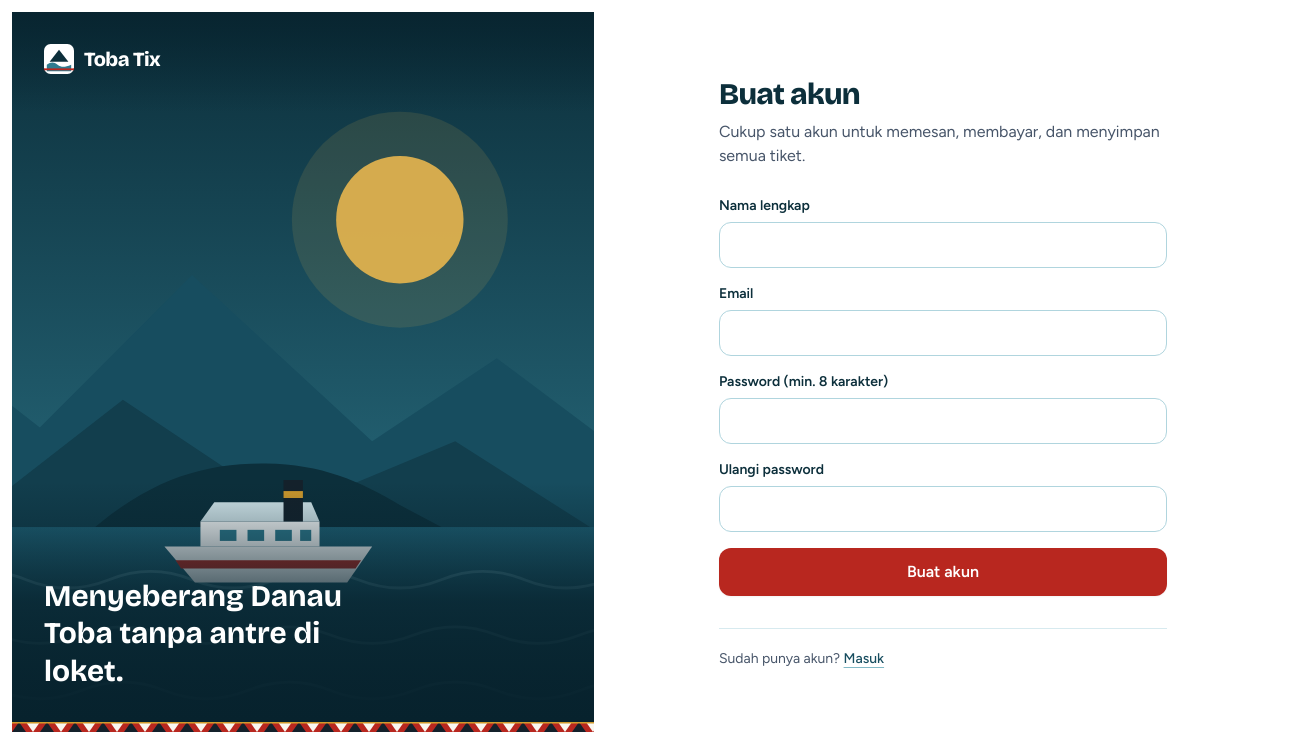
Test case: RegisterPage › registrasi gagal menampilkan pesan server dan error field
Type "Budi Santoso" into the field with id "name" at (943, 244), box x1=719 y1=222 x2=1167 y2=268
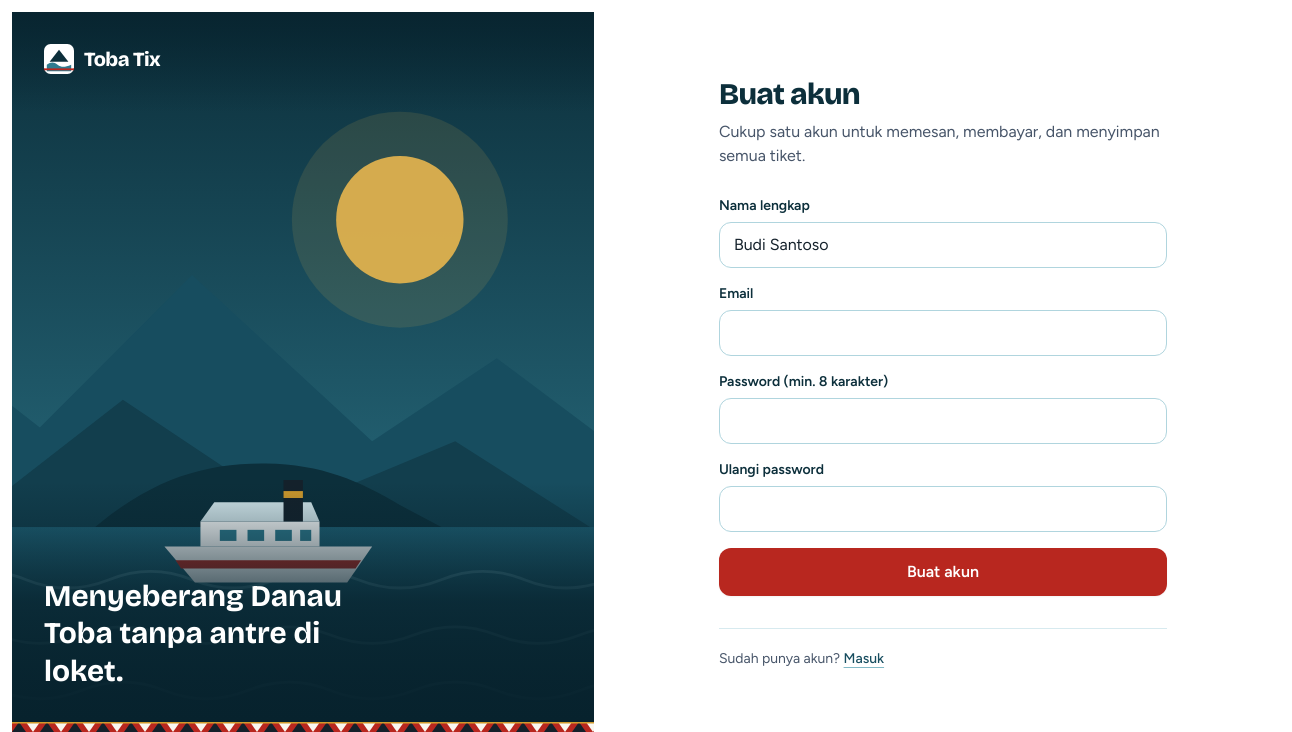
Type "budi@test.com" into the field with id "email" at (943, 332), box x1=719 y1=310 x2=1167 y2=356
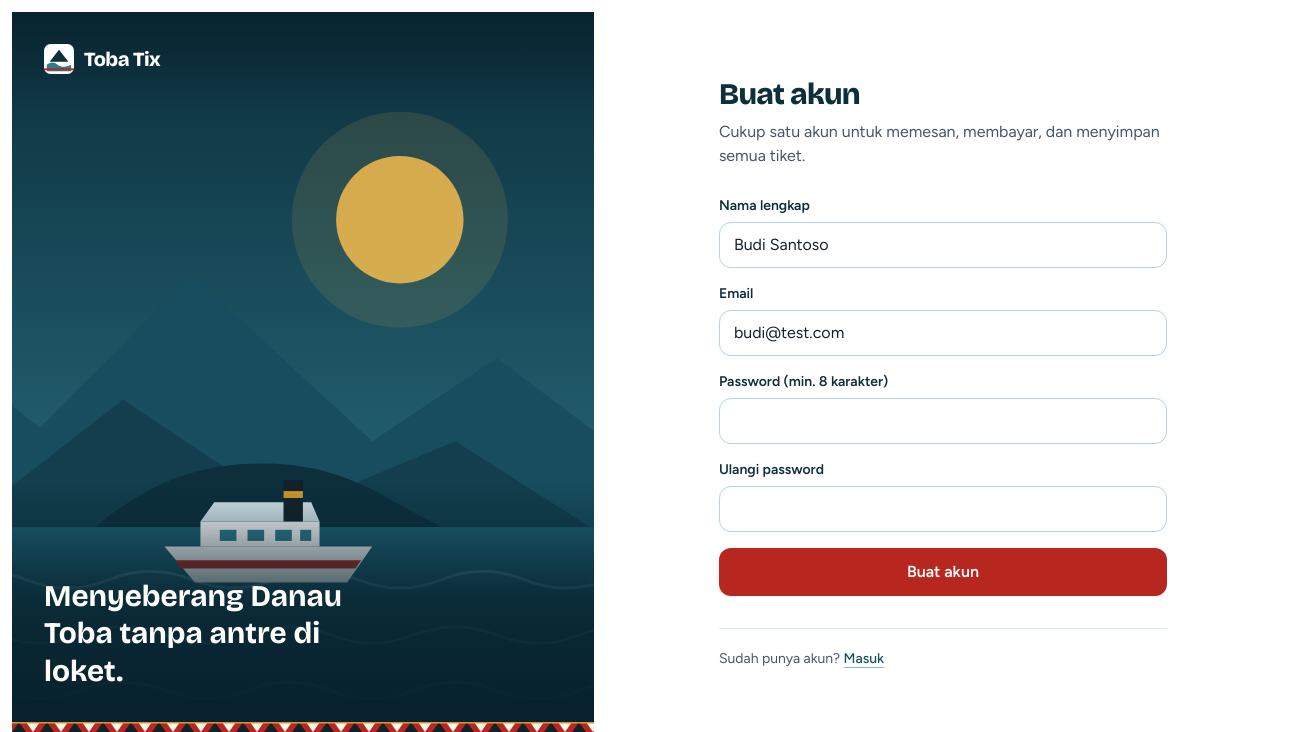
Type "password123" into the password field labelled "Password (min. 8 karakter)" at (943, 420), box x1=719 y1=398 x2=1167 y2=444
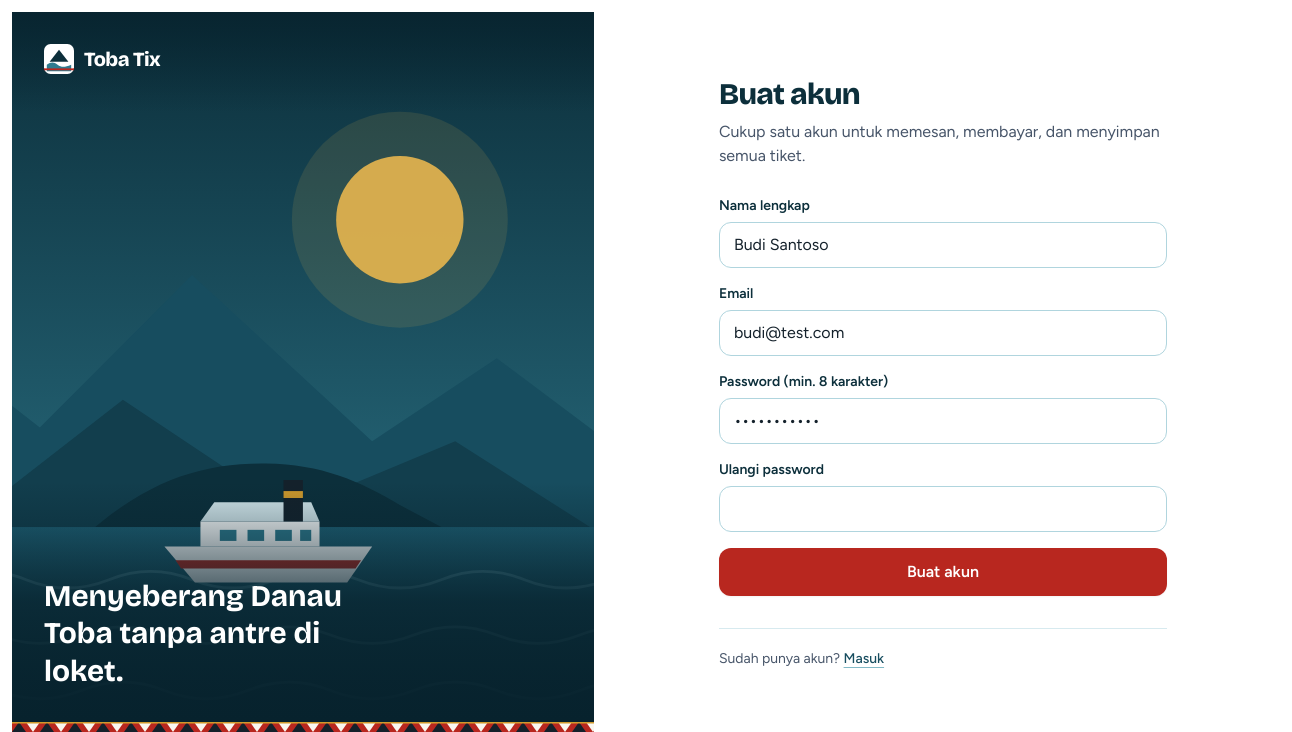
Type "password123" into the password field with id "confirm" at (943, 508), box x1=719 y1=486 x2=1167 y2=532
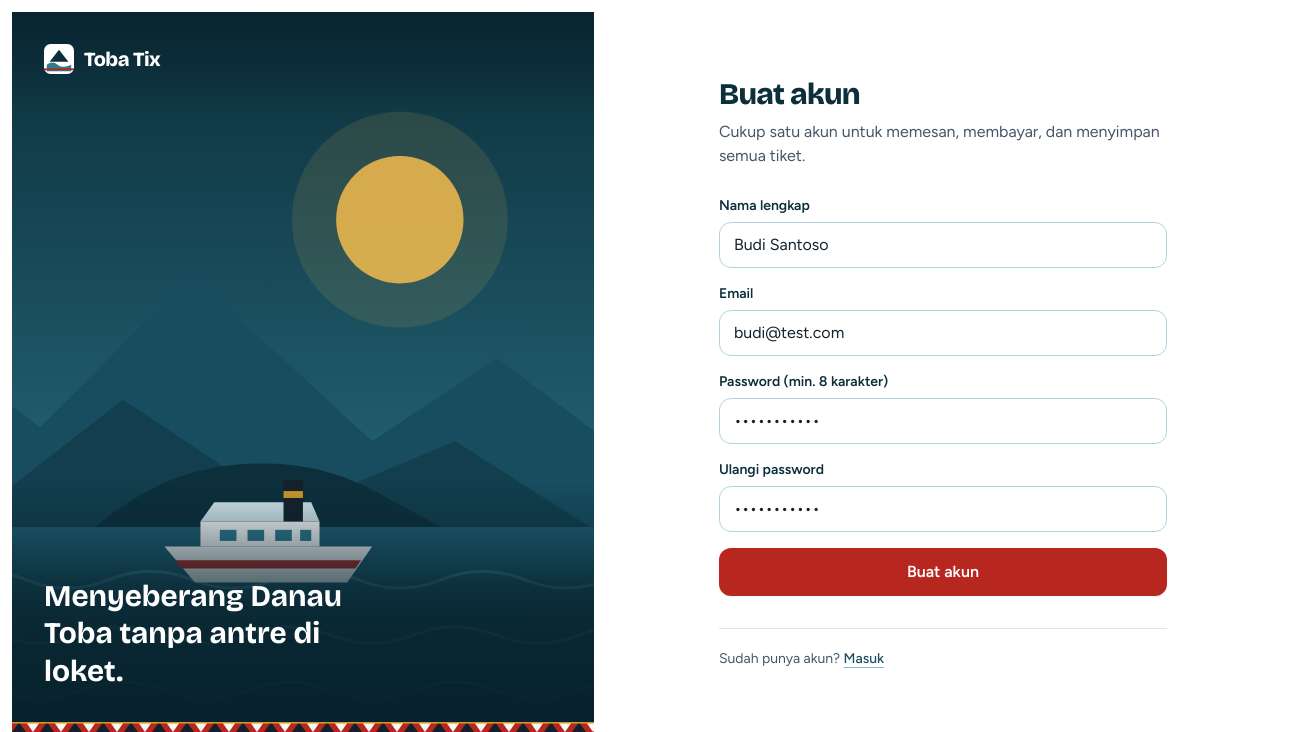
Submit the form, box x1=719 y1=196 x2=1167 y2=596
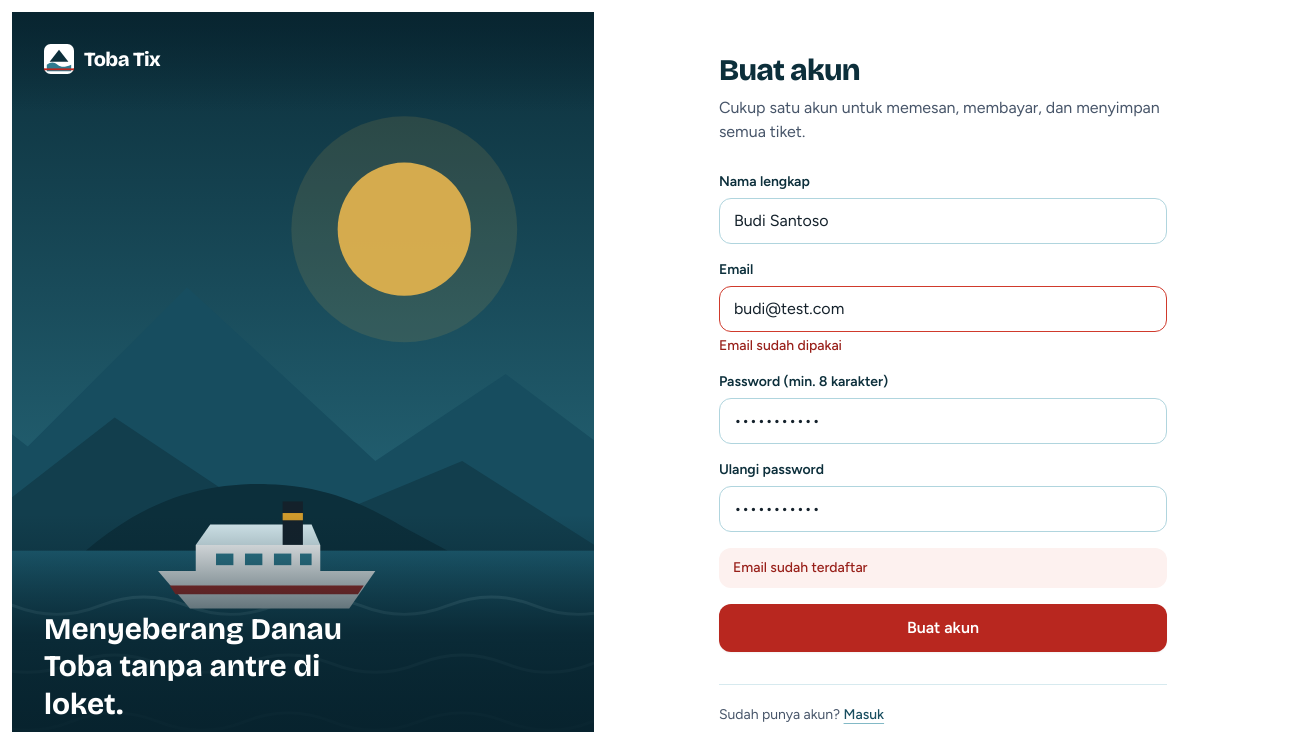
Expected: the text "Email sudah terdaftar" is shown, x1=719 y1=548 x2=1167 y2=588
Expected: the text "Email sudah dipakai" is shown, x1=719 y1=337 x2=842 y2=354
